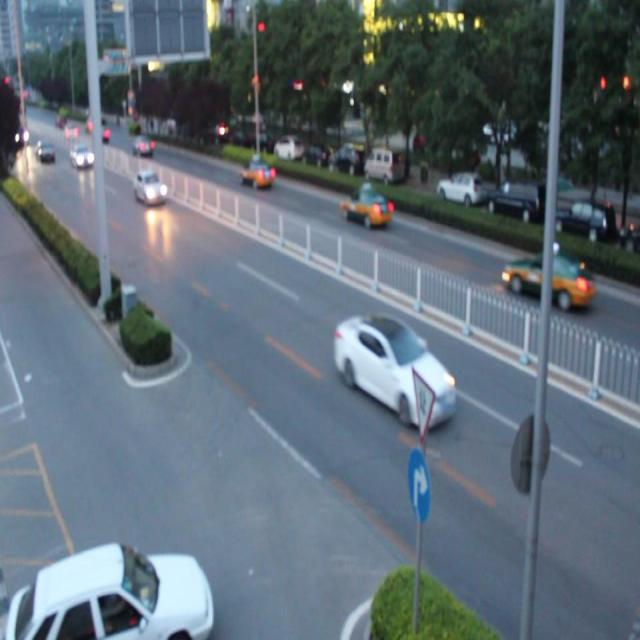car: (10, 543, 211, 640), (334, 315, 454, 427), (502, 249, 591, 307), (343, 188, 390, 226), (132, 172, 166, 204), (240, 159, 273, 187)
